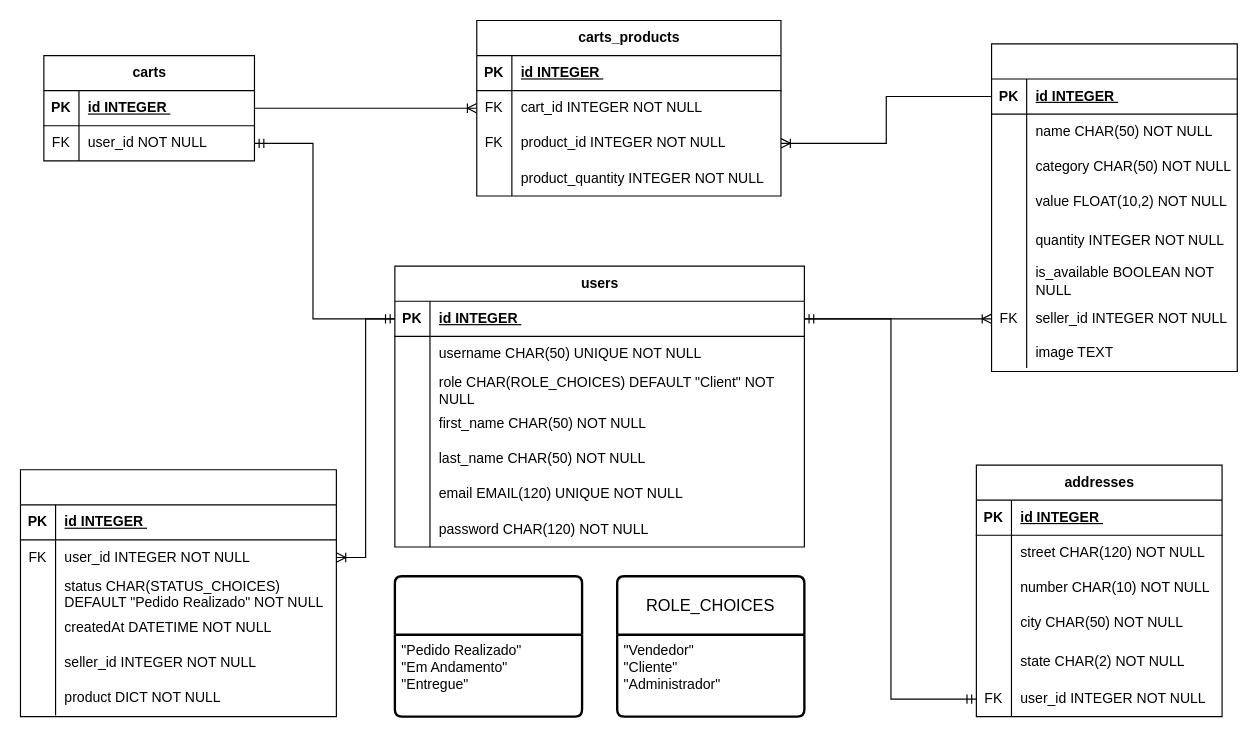
Image size: 1258x738. Some labels were removed from this diagram. The box of each missing label's shape, as (x1, y1, x2, y2) in pixels:
orders: (19, 469, 336, 717)
products: (990, 43, 1237, 371)
STATUS_CHOICES: (393, 574, 583, 717)
